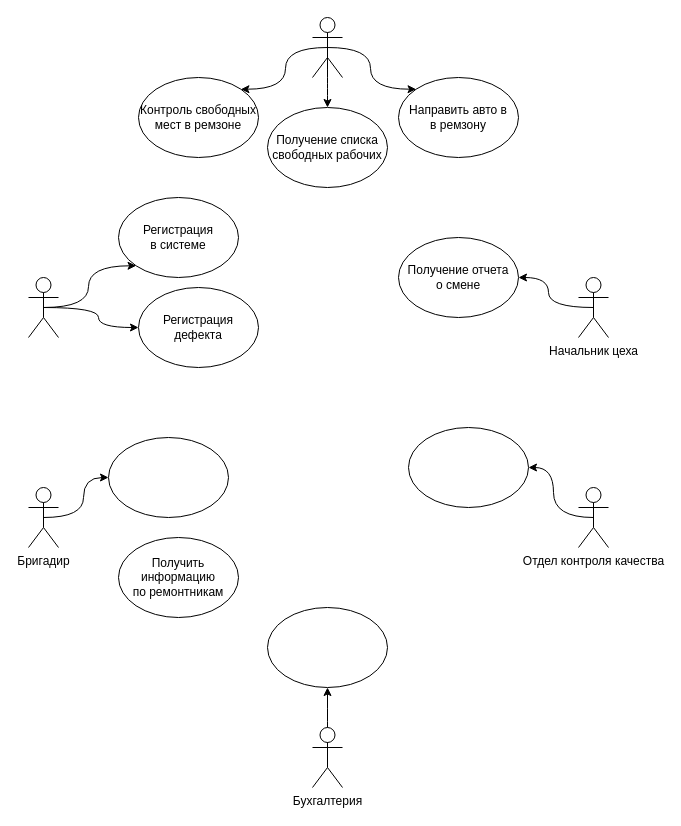
Some shapes in this 681 by 826 pixel diagram are drawn without their labels. The box of each missing label's shape, as (x1, y1, x2, y2) in pixels:
Диспетчер: (312, 16, 342, 78)
Назначить ремонт рабочему: (108, 436, 228, 518)
Получить отчет по выполненным ремонтам: (408, 426, 528, 508)
Получить отчет по ремонтикам: (266, 606, 388, 688)
Рабочий: (28, 276, 58, 338)
